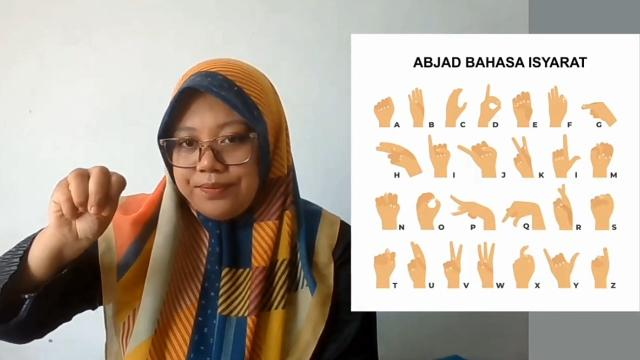M: (46, 163, 126, 249)
